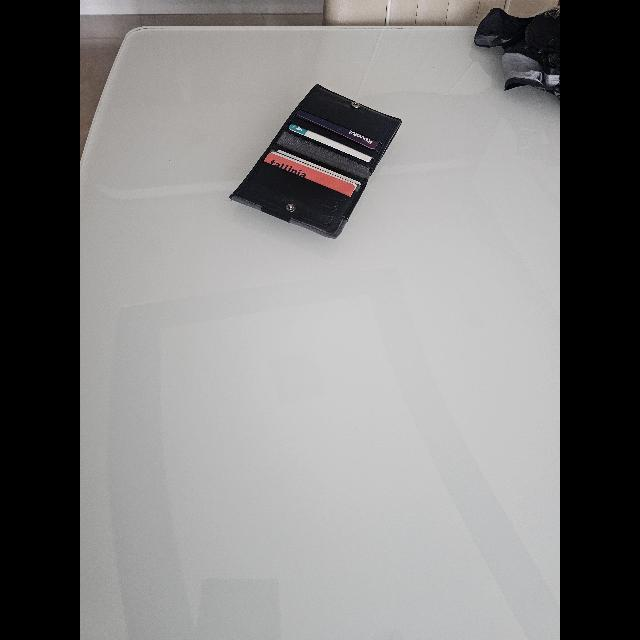Wallet: (228, 86, 402, 240)
